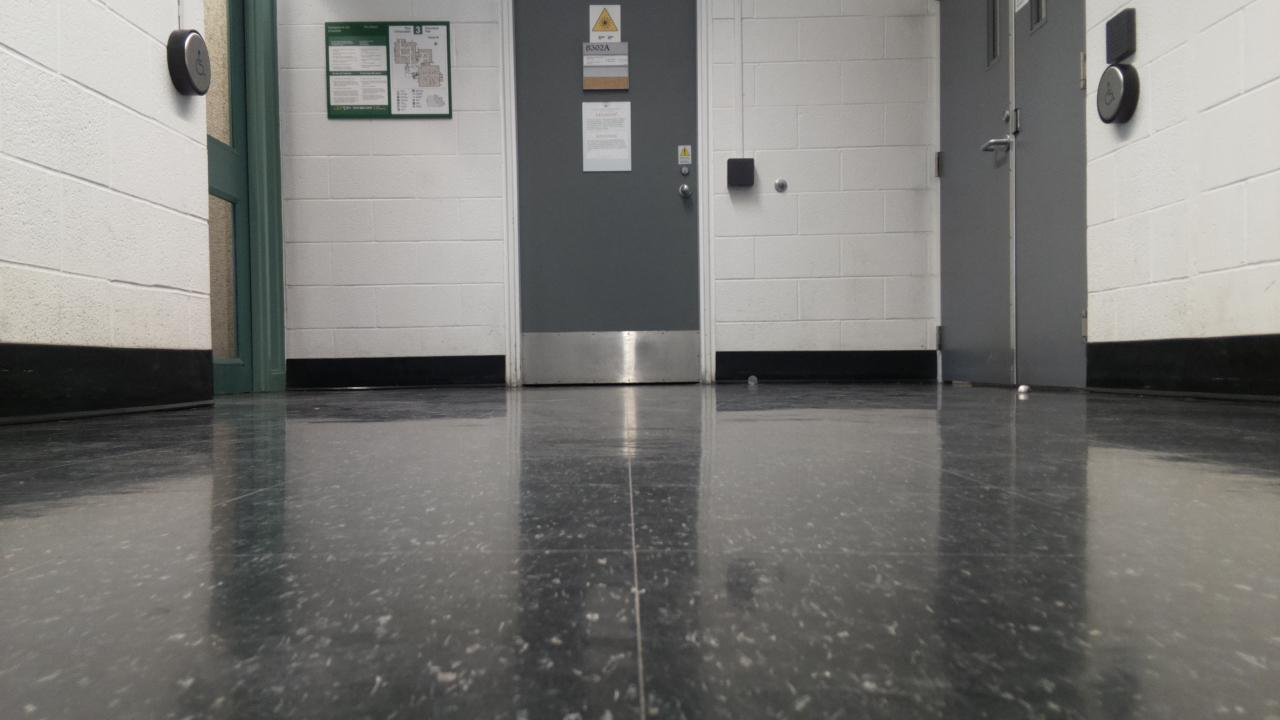door: (514, 0, 699, 382)
sign: (325, 21, 451, 119), (583, 42, 628, 88), (590, 5, 620, 42), (678, 145, 691, 163)
